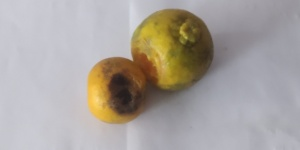BAD: (134, 8, 212, 92), (95, 67, 147, 123)
